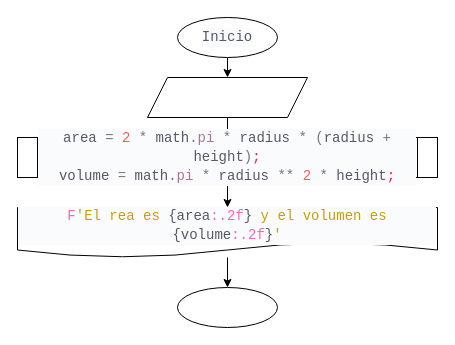
Image size: 455x345. Some labels were removed from this diagram. The shapes that lost their labels are listed below. From the top down, each one's centre as x and y in pixels, then its label:
At point (227, 97): "radius , height".
At point (227, 307): "Fin".
